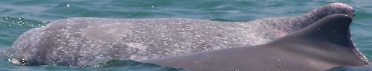fin: (10, 2, 366, 69)
